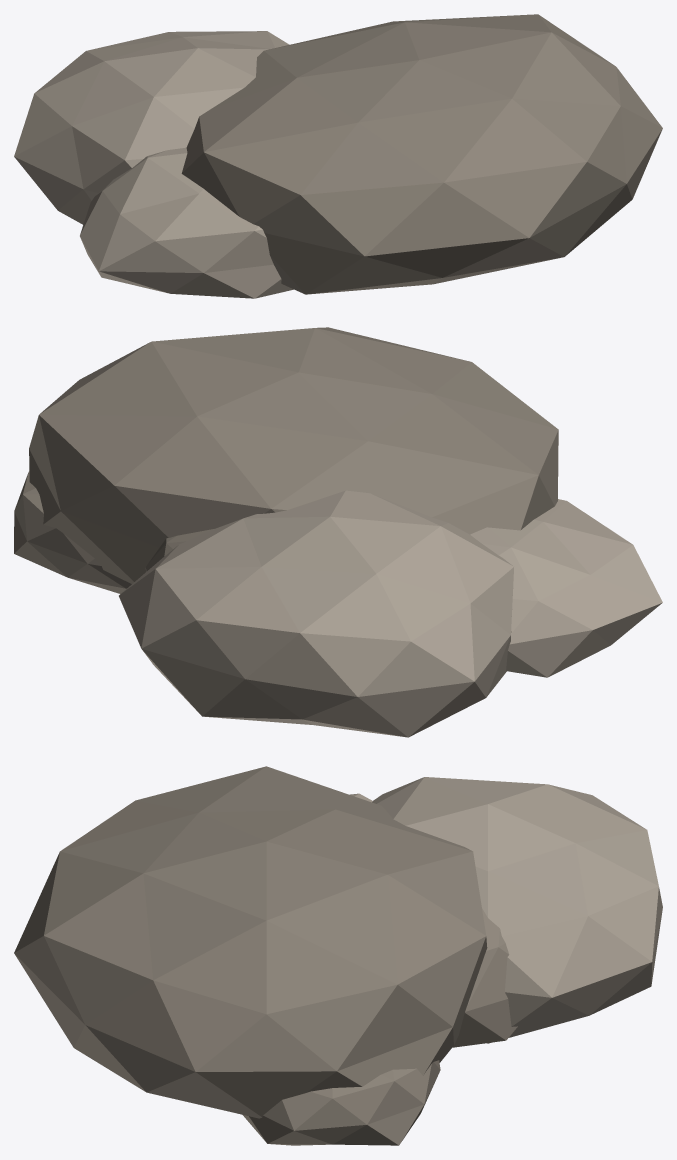
Rendered from HS_LP_Water_RiverRock_01.fbx.
The picture shows the model from 3 angles, top to bottom: view 1: azimuth 30°, elevation 25°; view 2: azimuth 150°, elevation 25°; view 3: azimuth 270°, elevation 25°; orthographic projection. The views are drawn at different scales.
Visible parts, largest first — view 1: HS_LP_Water_RiverRock_01; view 2: HS_LP_Water_RiverRock_01; view 3: HS_LP_Water_RiverRock_01.
Part boxes in pixels (x1,y1,x2,y2): HS_LP_Water_RiverRock_01: (14, 14, 662, 298); HS_LP_Water_RiverRock_01: (14, 327, 662, 737); HS_LP_Water_RiverRock_01: (14, 766, 662, 1145).
Bounding box in the file's own units: 110 × 35.84 × 98.88.
